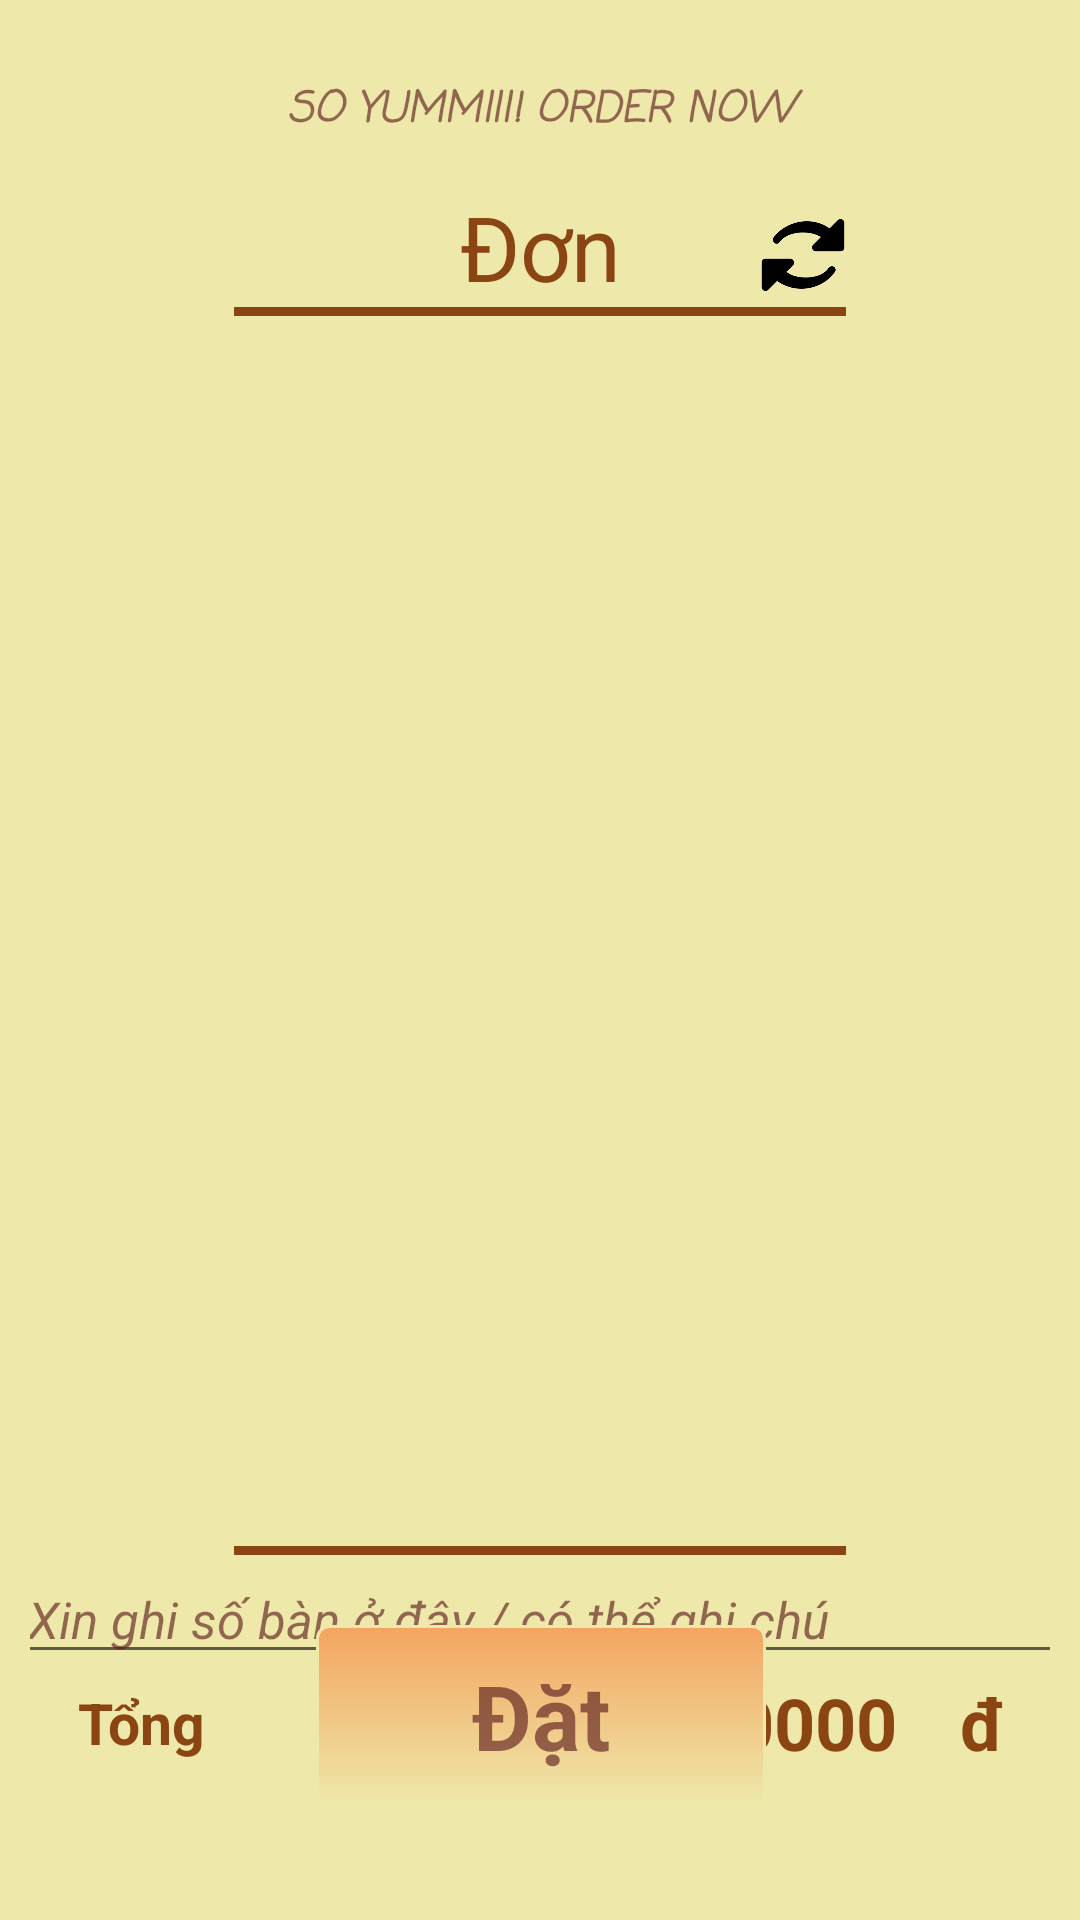

Screen size 1080px×1920px. Icon name, then its box in pixels as bbox=(x1, y1, x2, y2):
load: bbox=(761, 219, 845, 291)
